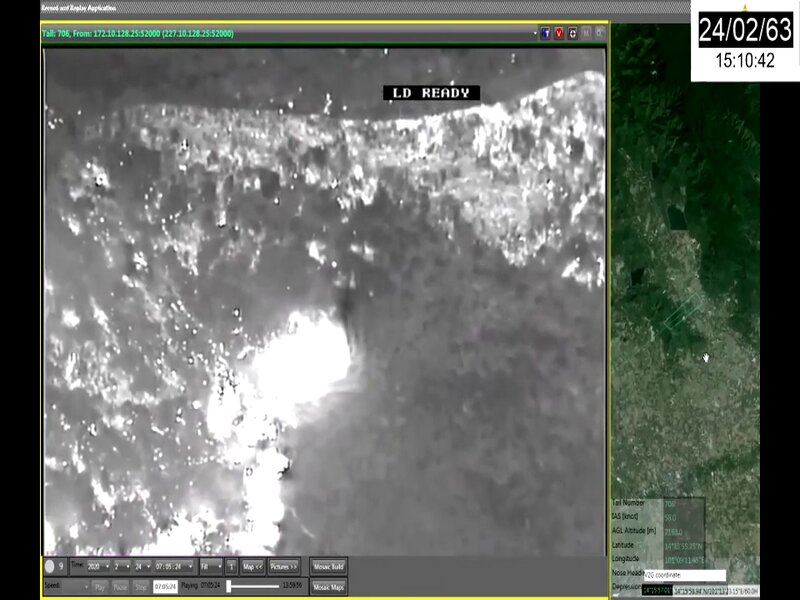Fire: (137, 309, 351, 554)
